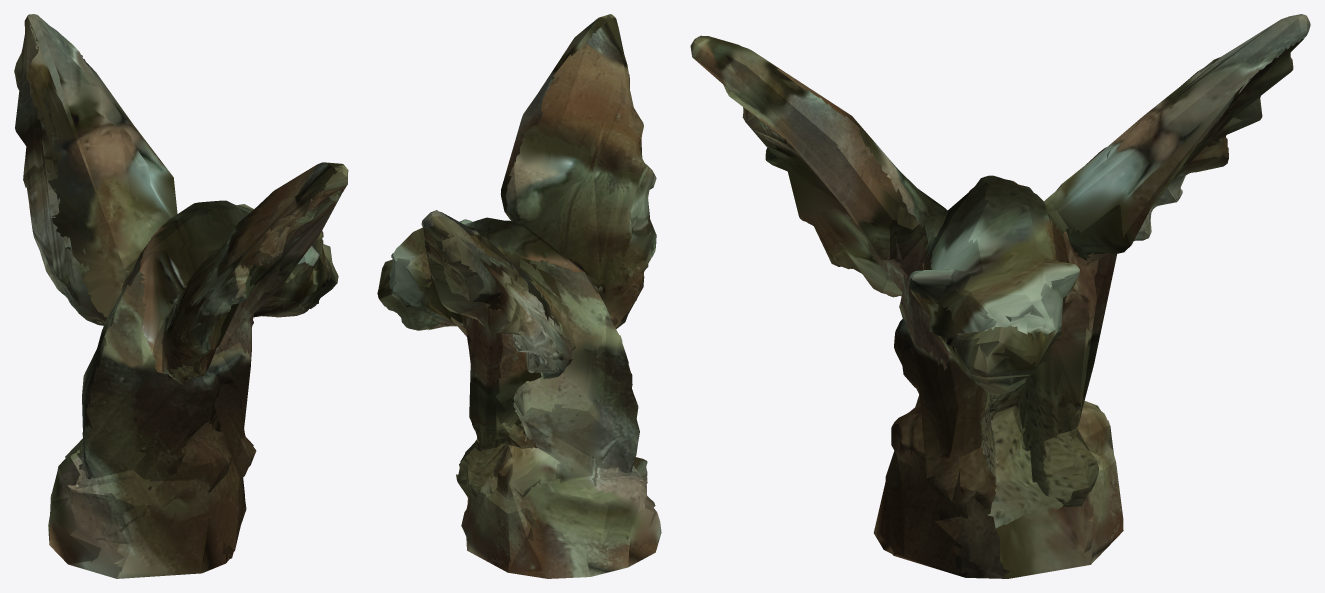
3 renders of one model, left to right at view 1: azimuth 30°, elevation 25°; view 2: azimuth 150°, elevation 25°; view 3: azimuth 270°, elevation 25°, orthographic. The views are drawn at different scales.
Parts seen in each view (by area): view 1: gargoyle01-1; view 2: gargoyle01-1; view 3: gargoyle01-1.
Boxes of the visible parts, x1,y1,x2,y2 form: gargoyle01-1: (14, 14, 348, 578); gargoyle01-1: (377, 14, 661, 578); gargoyle01-1: (690, 14, 1310, 578).
Bounding box in the file's own units: 1.23 × 1.9 × 1.99.
